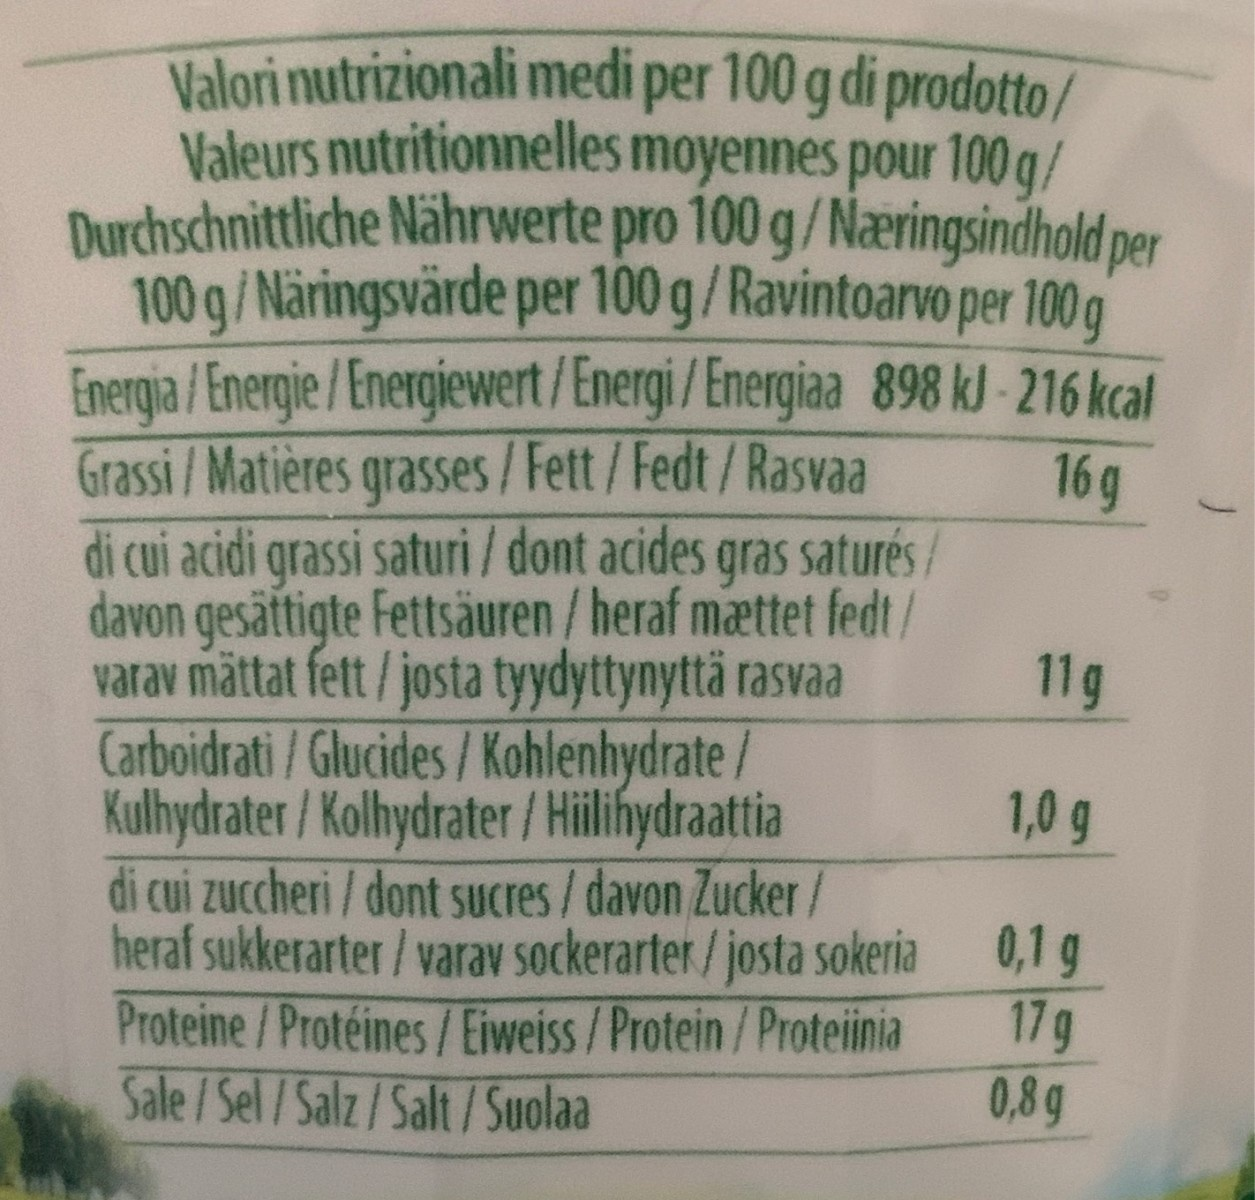column: (61, 359, 973, 1146), (989, 354, 1166, 1141)
table: (41, 24, 1191, 1163)
